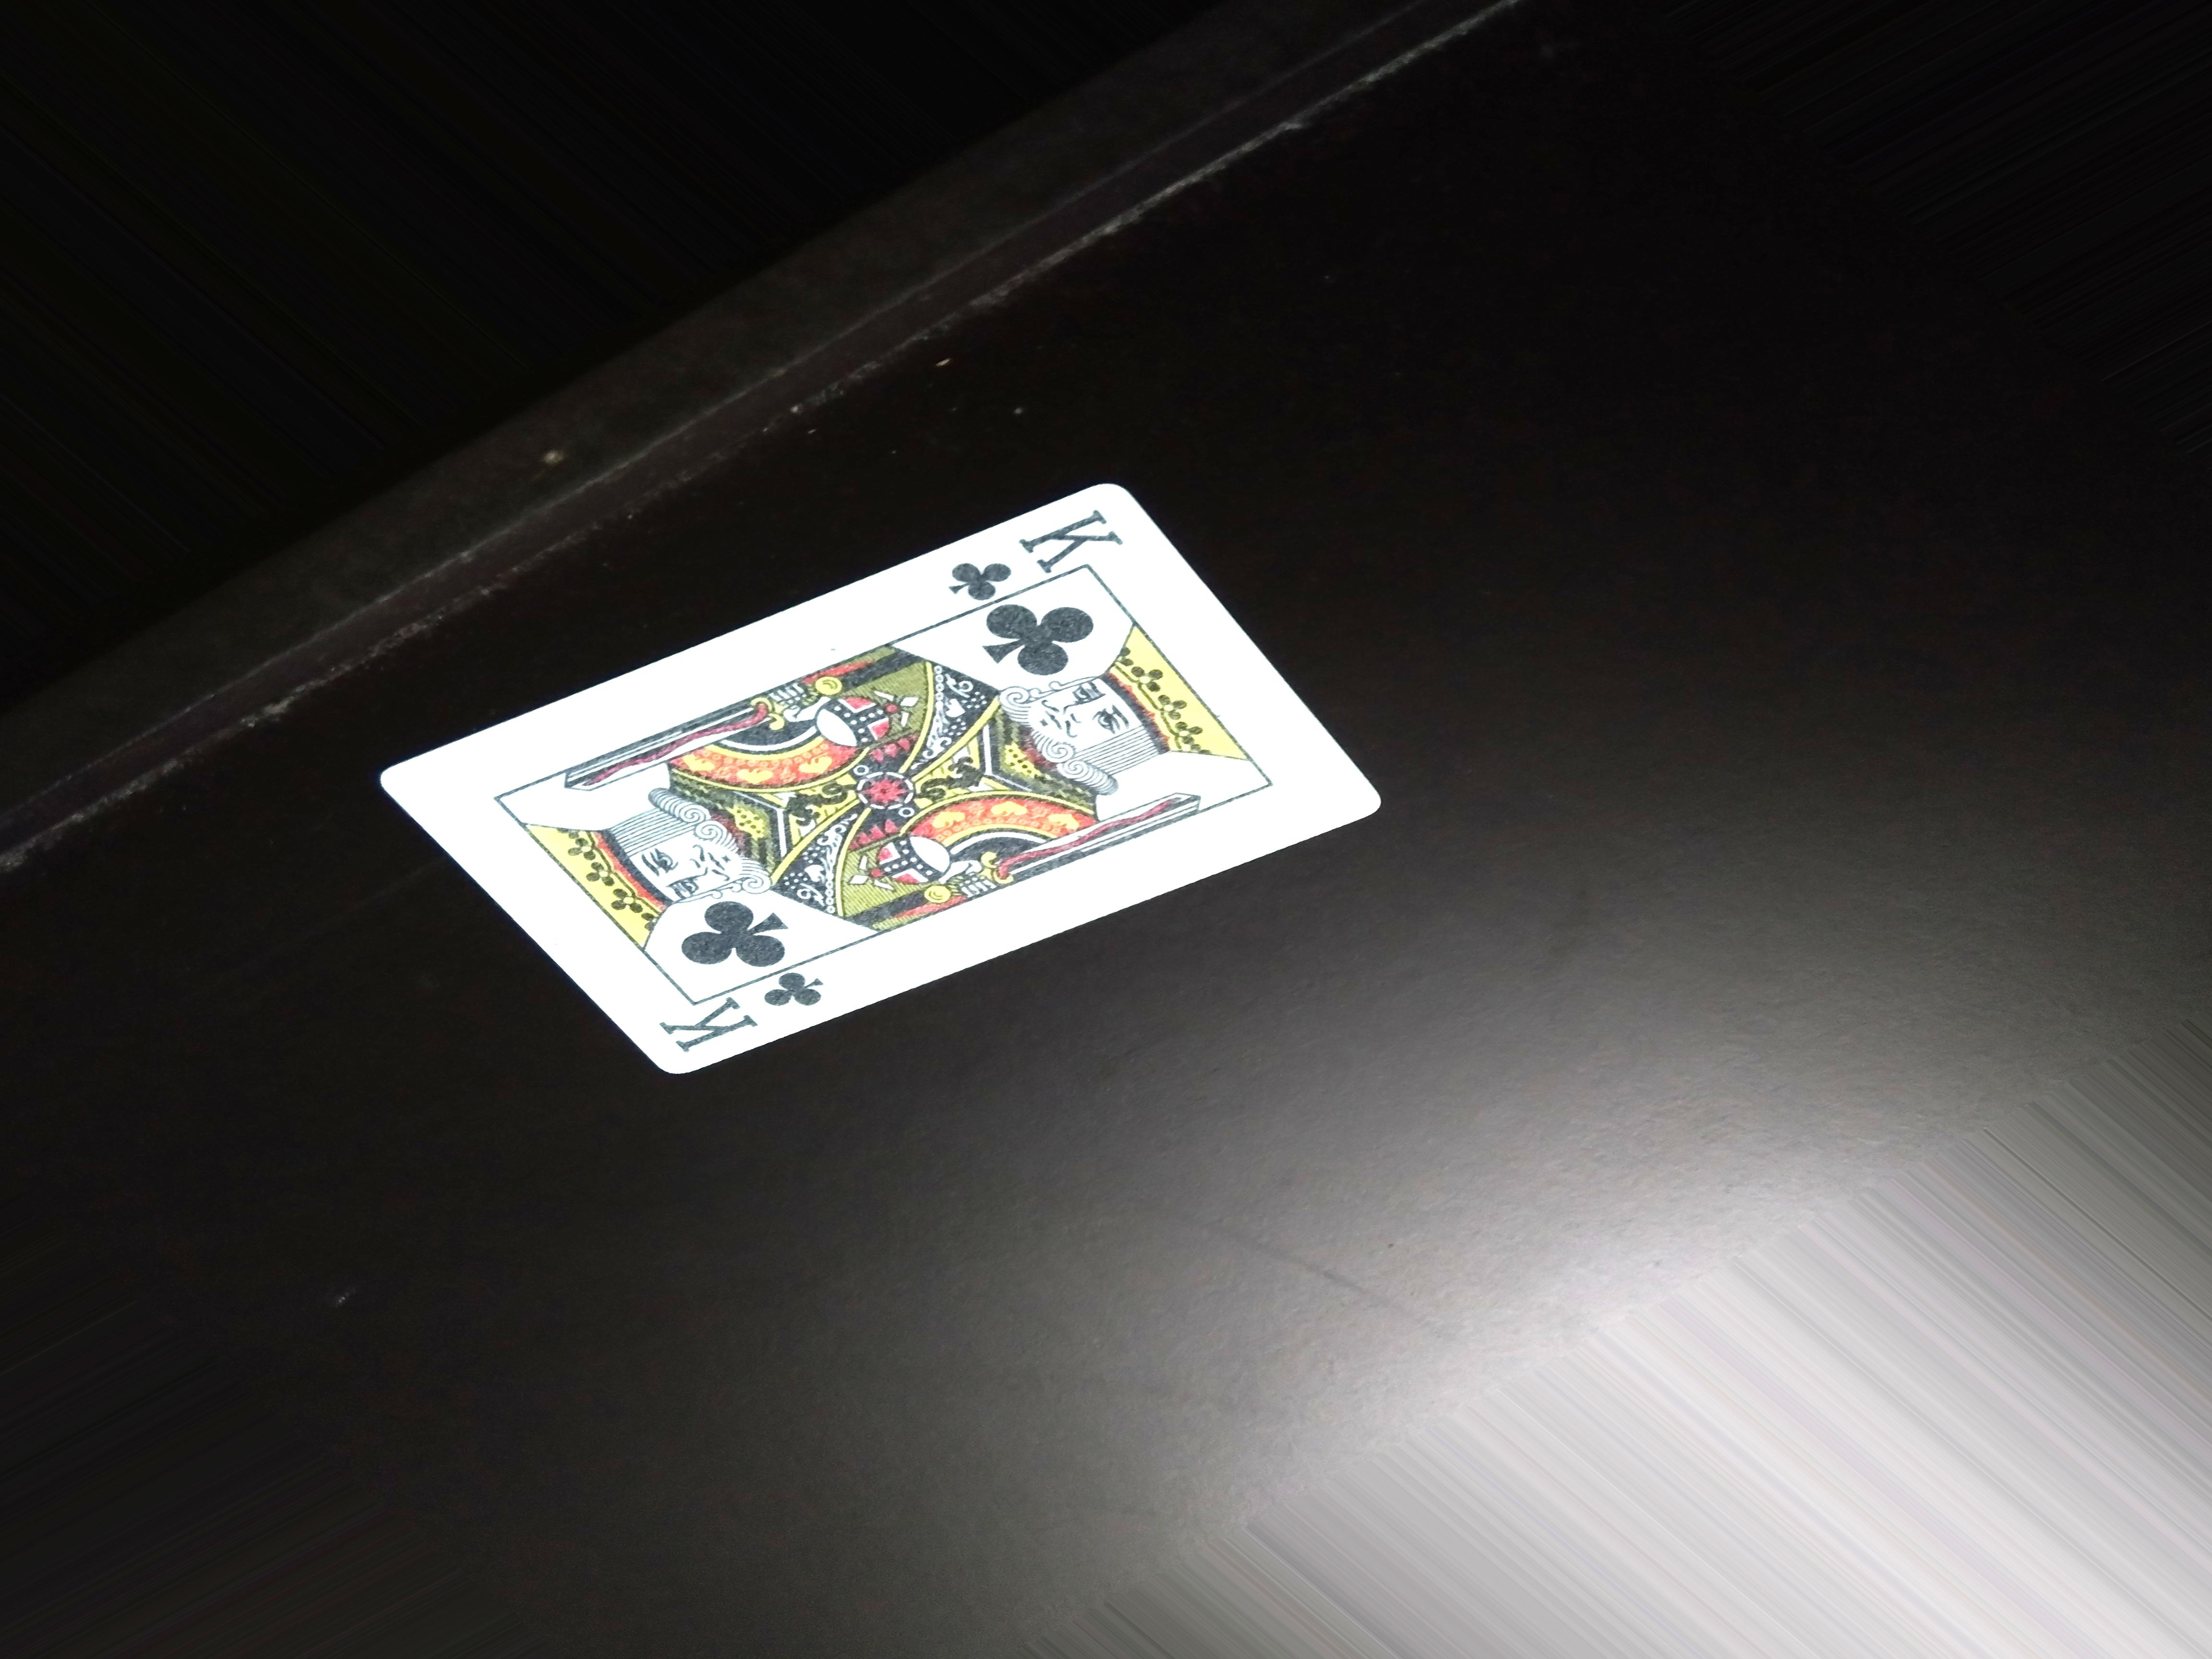KC: (941, 504, 1134, 598)
